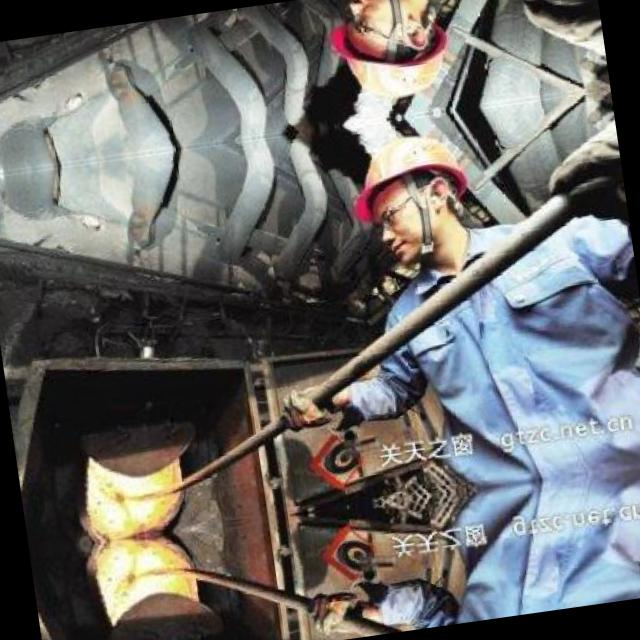helmet: (336, 120, 494, 276), (315, 0, 473, 111)
